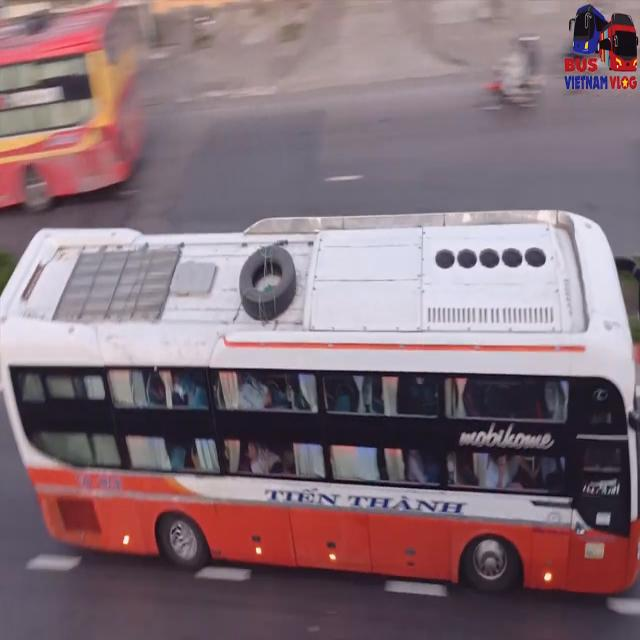bus: (0, 213, 640, 597), (0, 6, 134, 218)
